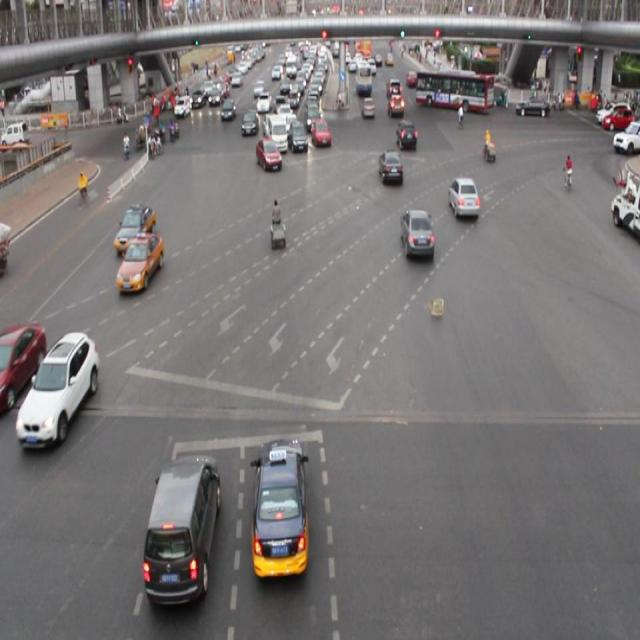car: (17, 331, 99, 449), (251, 438, 308, 578), (1, 320, 43, 411), (116, 232, 164, 290), (113, 204, 156, 252), (401, 208, 433, 260), (449, 176, 480, 220), (378, 148, 402, 191), (254, 137, 280, 172), (395, 118, 418, 153), (288, 119, 308, 156), (309, 118, 332, 150)
truck: (143, 451, 218, 609), (268, 114, 288, 151)
